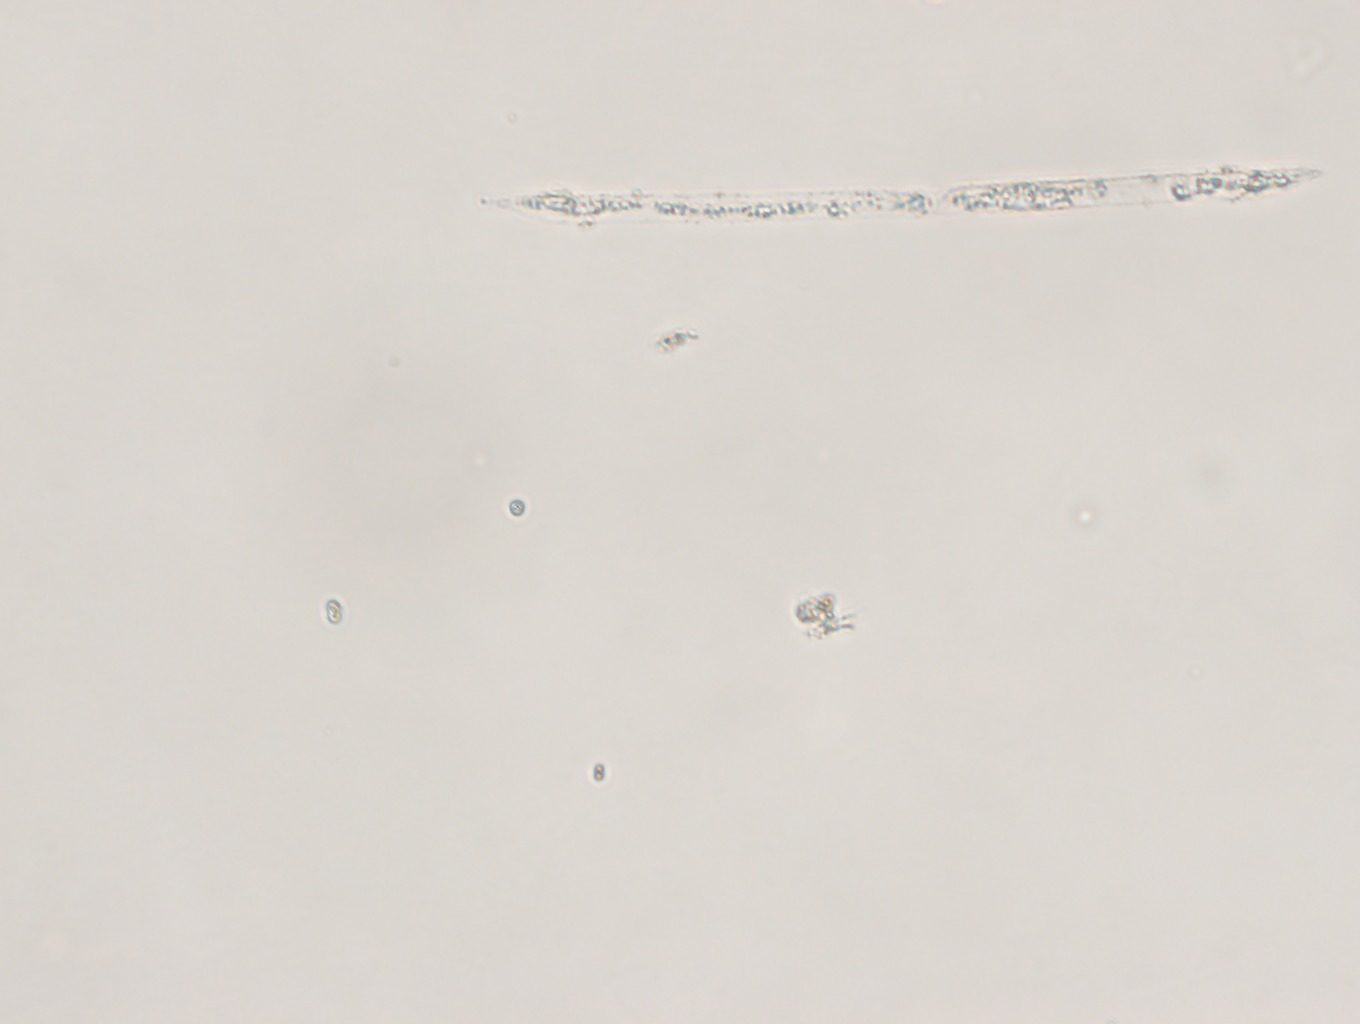ceratium fusus: (455, 142, 1338, 243)
